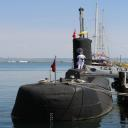submarine: (10, 1, 117, 120)
